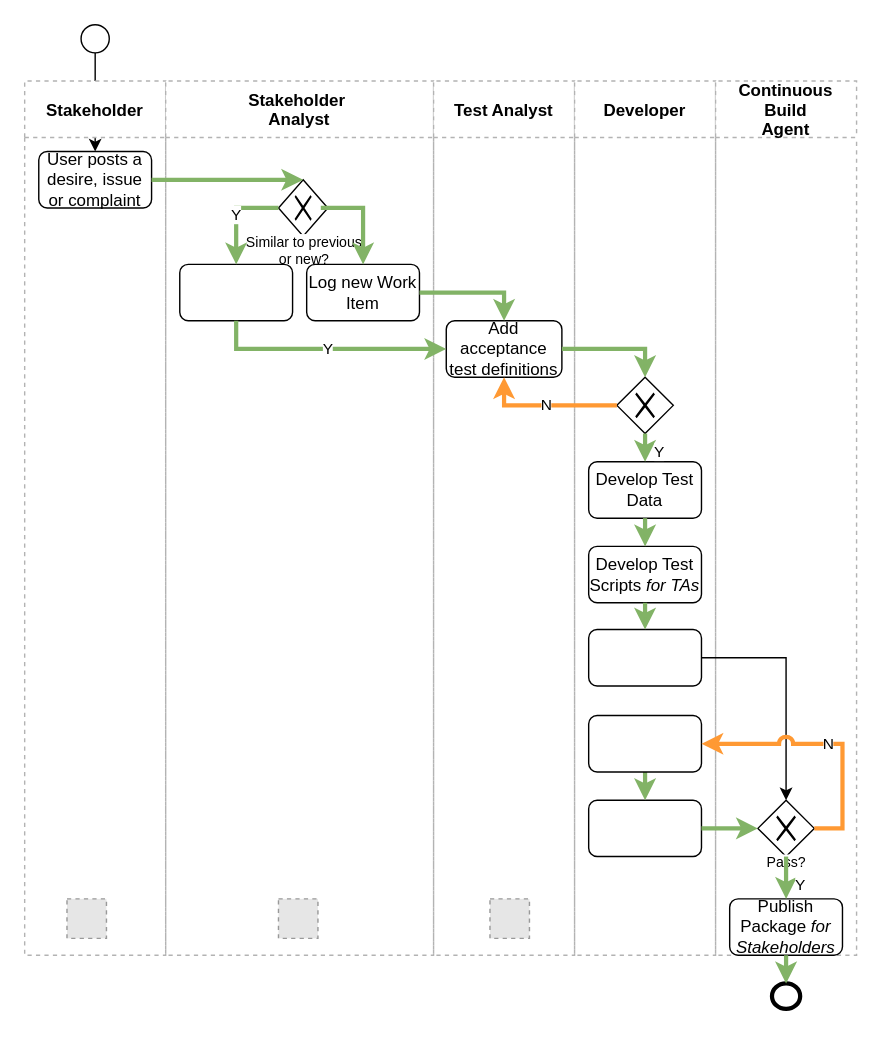
This 881x1060 diagram has some shape labels left out. Grey dashed boxes stand in for pictures. Each missing label, with the centre of its shape:
"Commit Code" belongs at pixel 644 828.
"Commit Tests" belongs at pixel 644 657.
"Complete?" belongs at pixel 644 405.
"Develop System Code for SAs" belongs at pixel 644 743.
"end" belongs at pixel 785 995.
"Link to existing work item" belongs at pixel 235 292.
"start" belongs at pixel 94 38.
